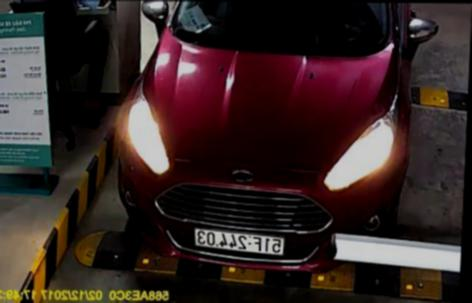License_Plate: (192, 230, 287, 255)
